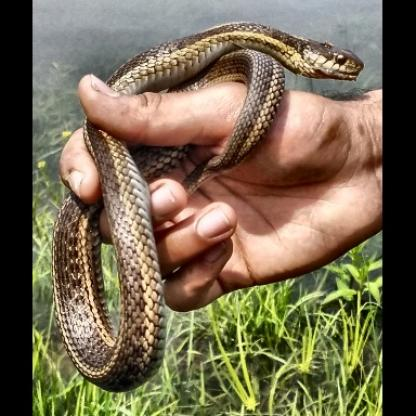Snake: (45, 18, 362, 395)
